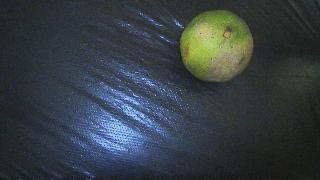DESECHO: (180, 10, 254, 82)
